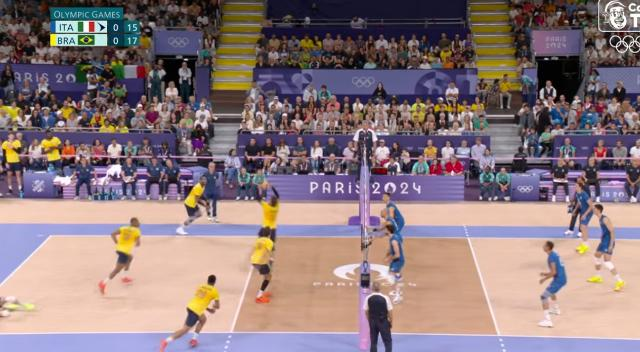Levantador: (574, 183, 590, 235), (263, 195, 279, 235)
bola: (259, 182, 271, 192)
